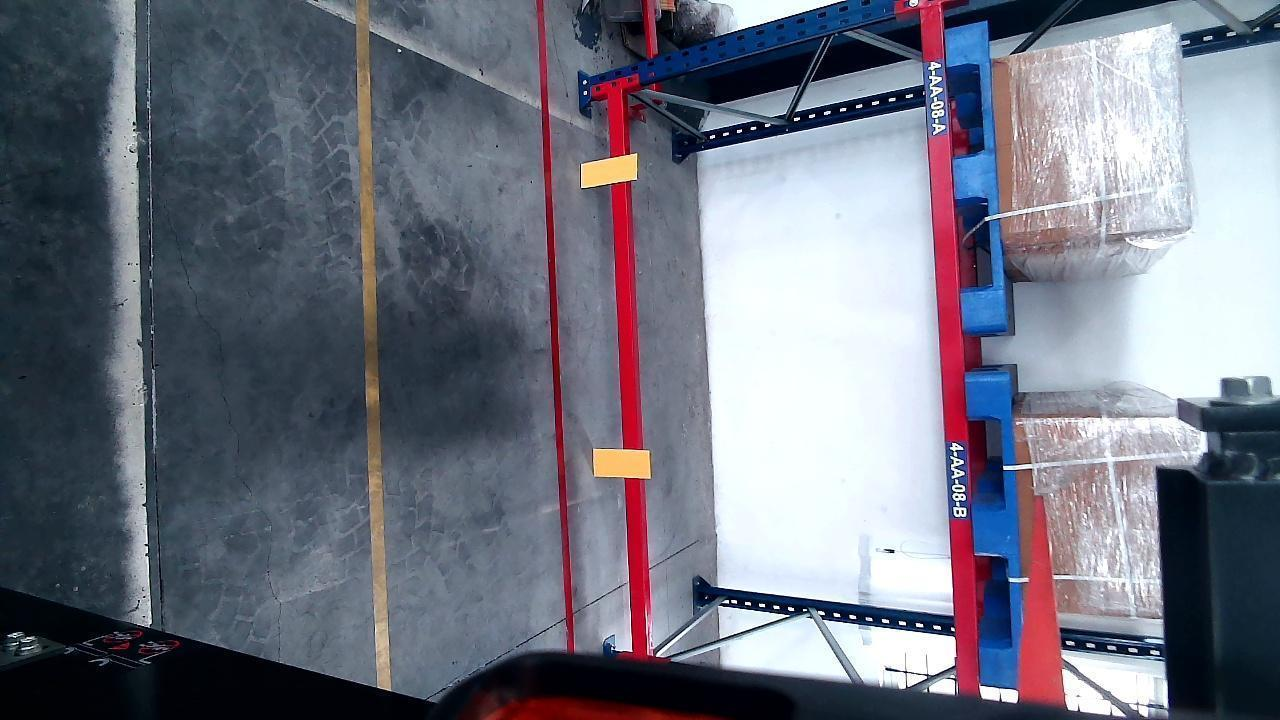red_line: (539, 15, 576, 662)
yellow_line: (355, 2, 392, 690)
